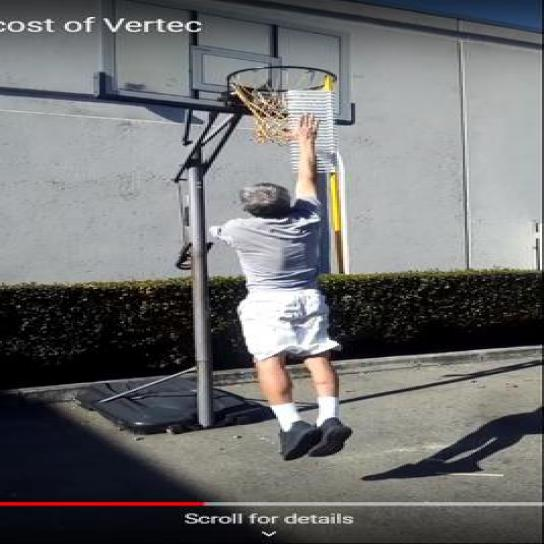basketball-hoop: (223, 64, 343, 145)
